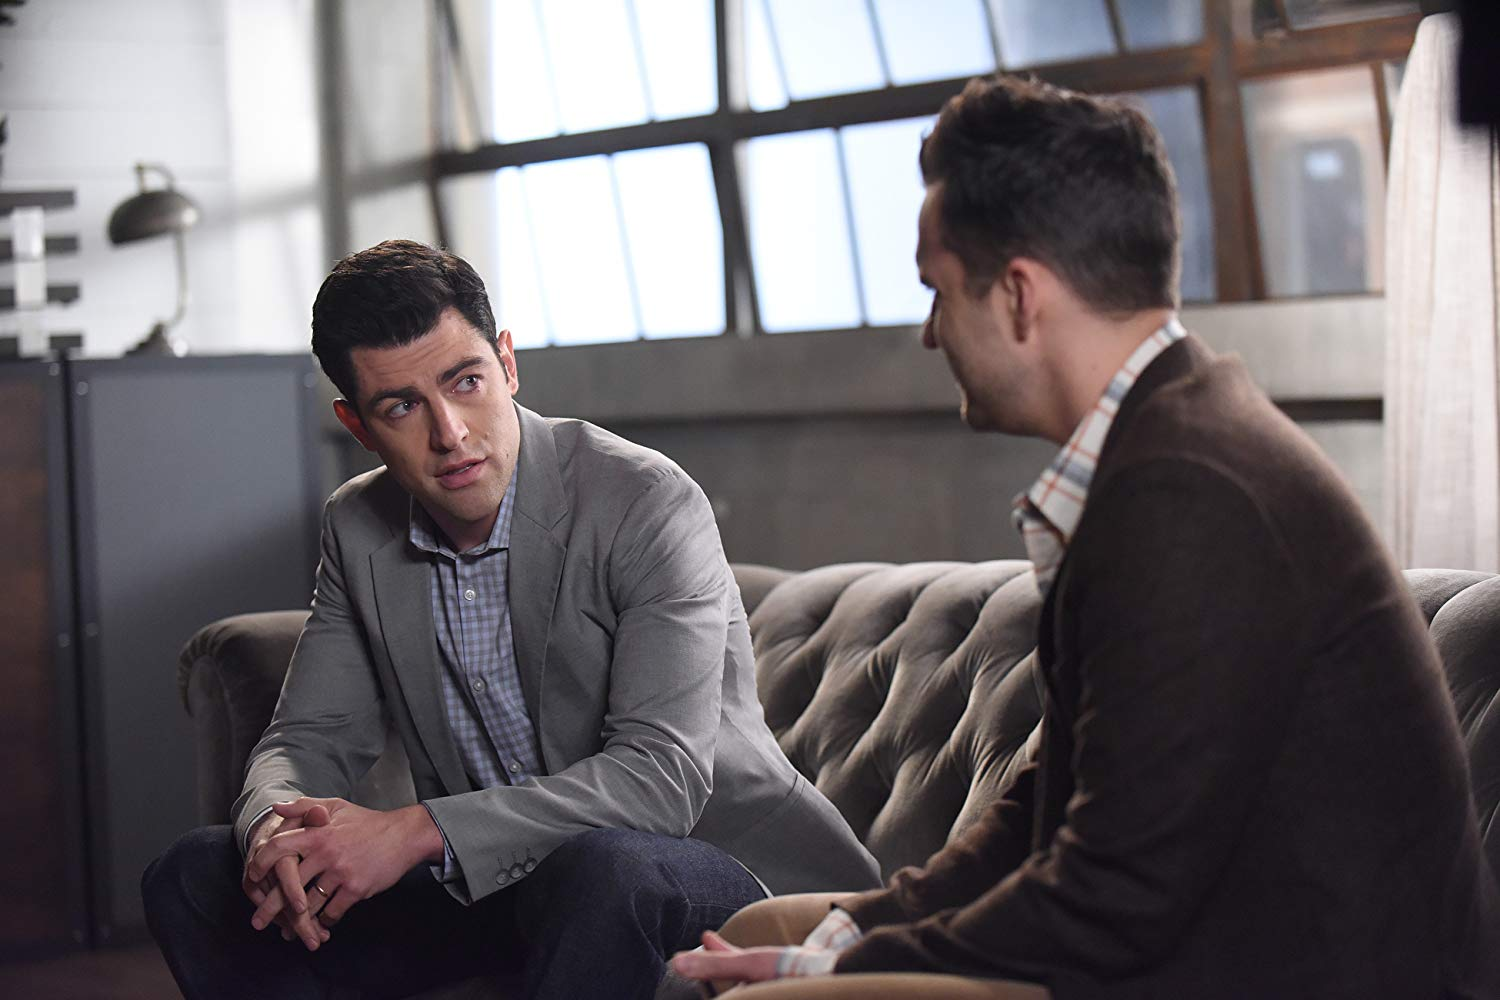person: (770, 72, 1499, 997), (184, 236, 888, 996)
